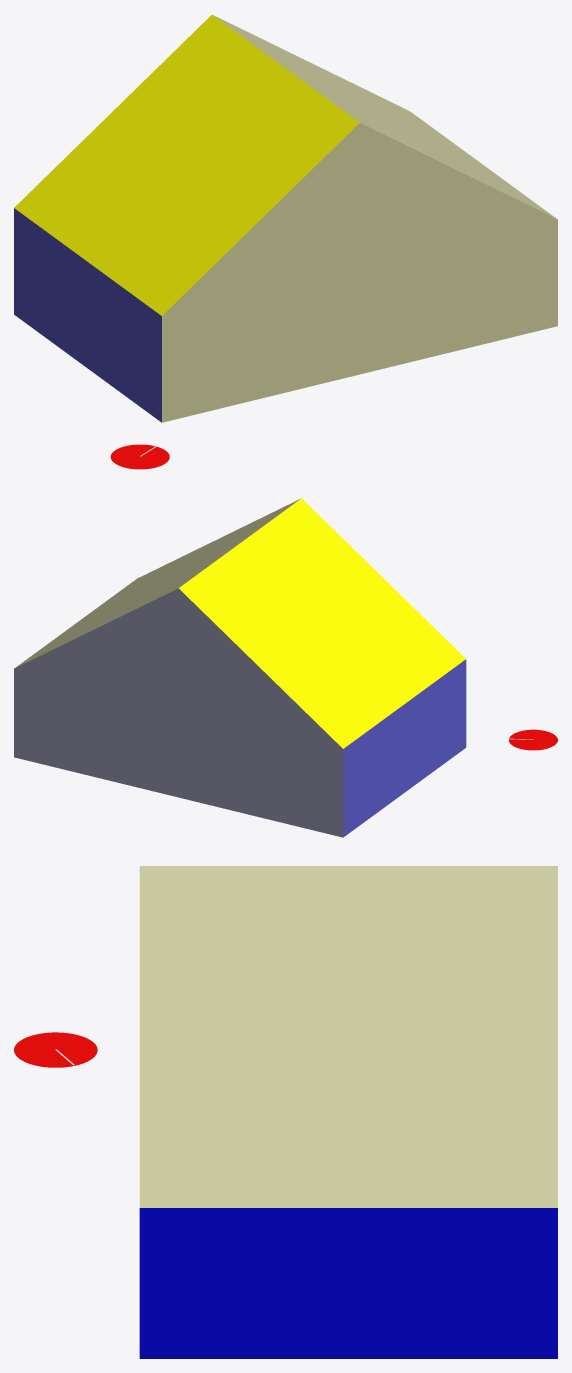
The model's file is result.glb.
3 views of the same model, one above another, from view 1: azimuth 30°, elevation 25°; view 2: azimuth 150°, elevation 25°; view 3: azimuth 270°, elevation 25° (orthographic). The views are drawn at different scales.
Parts seen in each view (by area): view 1: b4e508f0-fa3c-4c1d-8467-f033d83d6c2a__undefined, 5871bae9-fa95-4fbc-83c2-79c20f8accf8__undefined, d9a03b34-41bd-4d7f-a542-90c25961cef5__undefined, b25a6801-2b1a-4995-bc1d-1c8f6004c3dd__undefined, 70d2503d-9a59-4d03-8f15-74edd66fd21b__Circle; view 2: 69ba1f7c-4456-4a2e-b6df-3e37f9523edf__undefined, 5871bae9-fa95-4fbc-83c2-79c20f8accf8__undefined, d9a03b34-41bd-4d7f-a542-90c25961cef5__undefined, b25a6801-2b1a-4995-bc1d-1c8f6004c3dd__undefined, 70d2503d-9a59-4d03-8f15-74edd66fd21b__Circle; view 3: b25a6801-2b1a-4995-bc1d-1c8f6004c3dd__undefined, 751d5ffc-e6b8-4a47-bbe5-6c6dfb80bf60__undefined, 70d2503d-9a59-4d03-8f15-74edd66fd21b__Circle.
Part boxes in pixels (<box>): b4e508f0-fa3c-4c1d-8467-f033d83d6c2a__undefined: <box>162,123,557,422</box>; 5871bae9-fa95-4fbc-83c2-79c20f8accf8__undefined: <box>14,14,359,315</box>; d9a03b34-41bd-4d7f-a542-90c25961cef5__undefined: <box>14,208,161,422</box>; b25a6801-2b1a-4995-bc1d-1c8f6004c3dd__undefined: <box>213,15,556,218</box>; 70d2503d-9a59-4d03-8f15-74edd66fd21b__Circle: <box>110,444,169,469</box>; 69ba1f7c-4456-4a2e-b6df-3e37f9523edf__undefined: <box>14,588,343,837</box>; 5871bae9-fa95-4fbc-83c2-79c20f8accf8__undefined: <box>179,498,465,748</box>; d9a03b34-41bd-4d7f-a542-90c25961cef5__undefined: <box>343,659,466,837</box>; b25a6801-2b1a-4995-bc1d-1c8f6004c3dd__undefined: <box>14,499,299,668</box>; 70d2503d-9a59-4d03-8f15-74edd66fd21b__Circle: <box>509,729,557,750</box>; b25a6801-2b1a-4995-bc1d-1c8f6004c3dd__undefined: <box>139,866,557,1207</box>; 751d5ffc-e6b8-4a47-bbe5-6c6dfb80bf60__undefined: <box>139,1208,557,1358</box>; 70d2503d-9a59-4d03-8f15-74edd66fd21b__Circle: <box>14,1032,97,1067</box>.
Bounding box in the file's own units: 923 × 469 × 650.
